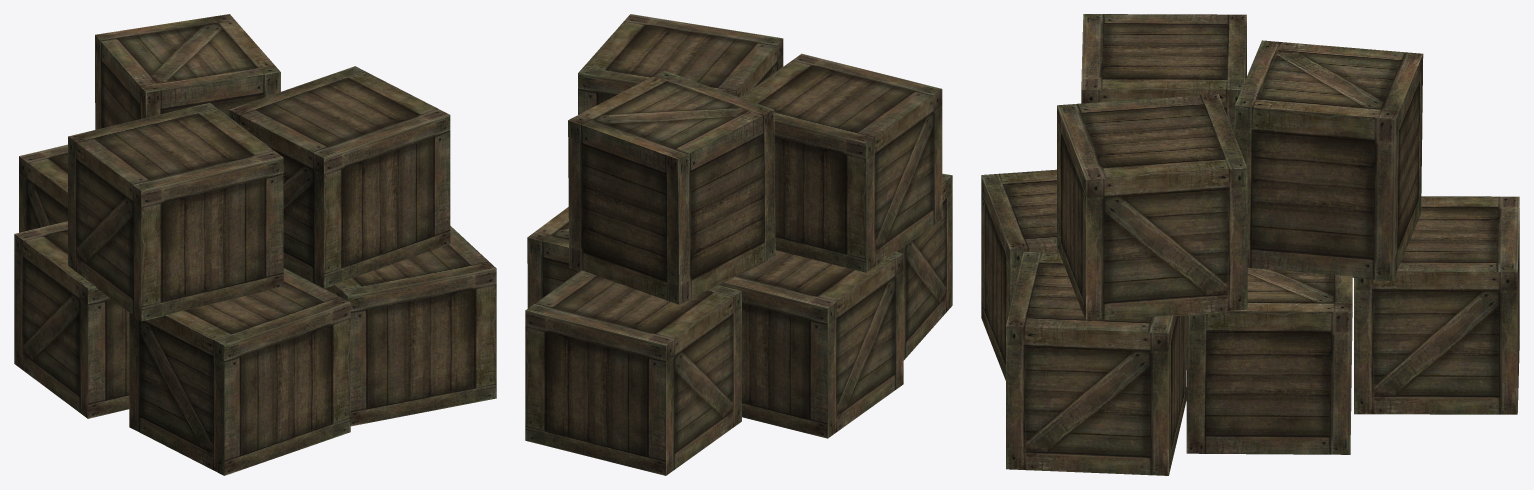
The model's file is thing_cagoboxset00.glb.
3 renders of one model, left to right at view 1: azimuth 30°, elevation 25°; view 2: azimuth 150°, elevation 25°; view 3: azimuth 270°, elevation 25°, orthographic. The views are drawn at different scales.
Visible parts, largest first — view 1: thing_cagoboxset00; view 2: thing_cagoboxset00; view 3: thing_cagoboxset00.
Boxes of the visible parts, x1,y1,x2,y2 form: thing_cagoboxset00: (14,14,496,475); thing_cagoboxset00: (525,14,952,475); thing_cagoboxset00: (981,14,1519,475).
Size of the model in its own units: 2.61 by 2.04 by 3.26.
Materials: 1 (1 with a texture image).
